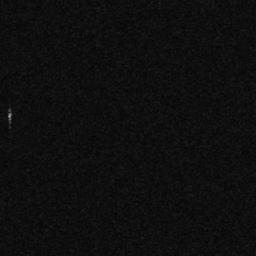ship: (7, 113, 12, 118)
